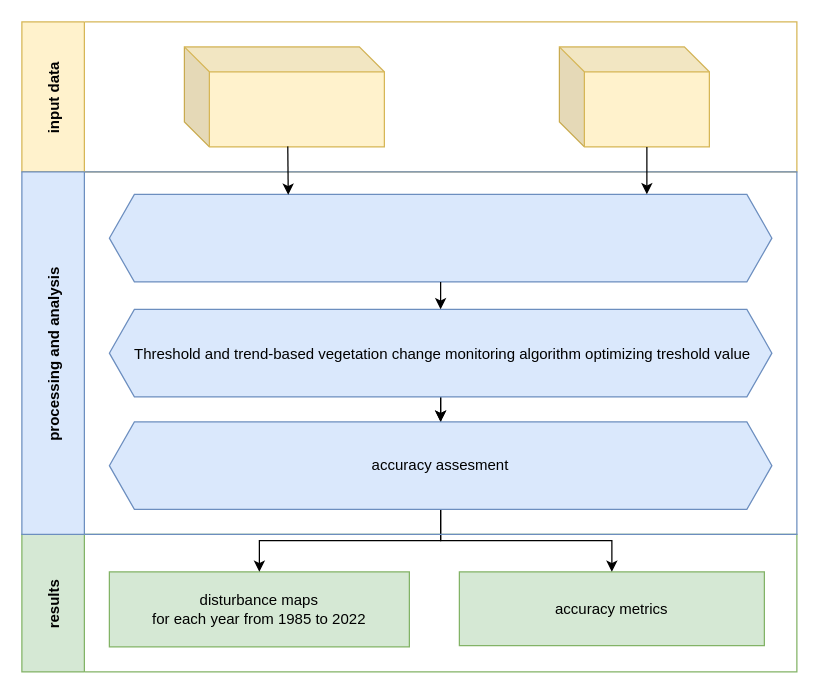
This 819x694 diagram has some shape labels left out. Here are the shapes that lost their labels. From the top down, the centre of each, then its label:
At point (283, 96): "Landsat data time series (from 1984 and 2022)".
At point (633, 96): "vector reference points".
At point (440, 237): "extraction of feature/indices values calculated based on spectral time series".
